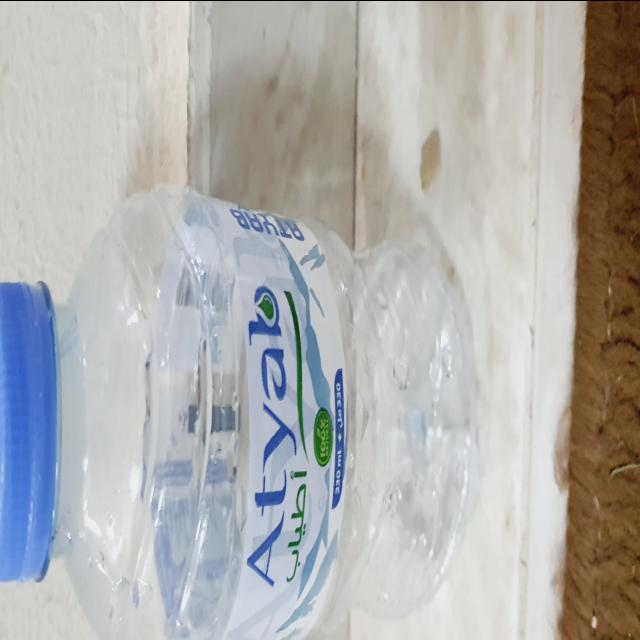plastic: (0, 184, 470, 640)
